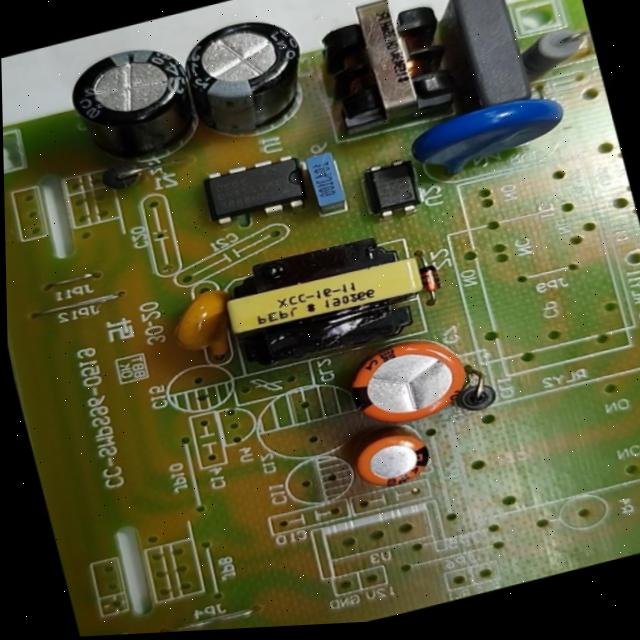Cap1: (334, 322, 482, 441)
Cap2: (340, 416, 446, 499)
Cap3: (169, 0, 330, 152)
Cap4: (57, 27, 213, 175)
MOSFET: (188, 140, 323, 236)
Mov: (394, 83, 582, 193)
Resistor: (507, 22, 594, 87)
Transformer: (201, 217, 451, 385), (301, 0, 480, 154)
